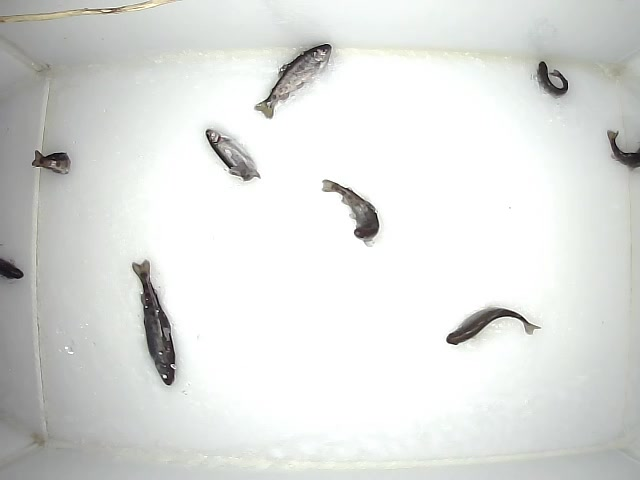fish: (128, 258, 177, 389), (253, 43, 336, 120), (319, 178, 382, 246), (443, 305, 541, 345), (204, 128, 260, 183), (536, 58, 570, 99), (31, 148, 71, 175)
